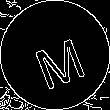M_N: (24, 23, 86, 87)
